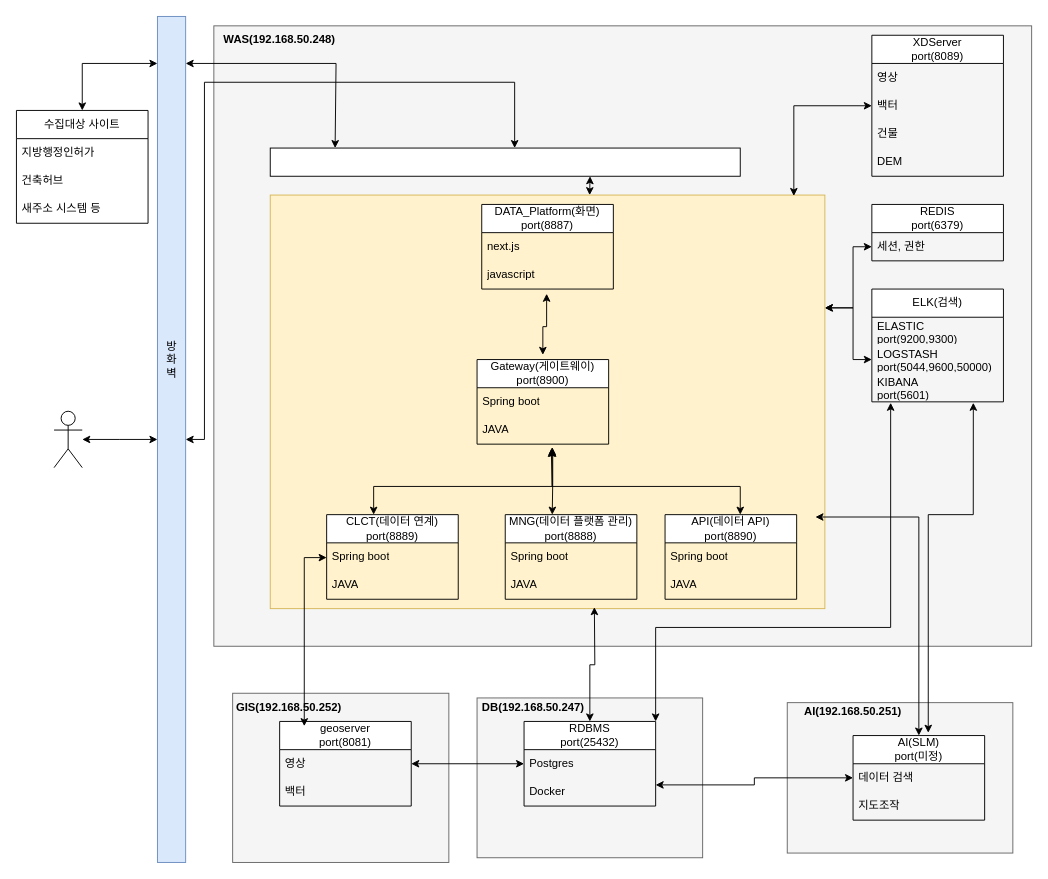
This 1048x879 diagram has some shape labels left out. The shapes that lost their labels are listed below. From the top down, each one's centre as x and y in pixels, then its label:
At point 504,161: "WEB(Apache) port(80)".
At point 67,439: "Actor".
